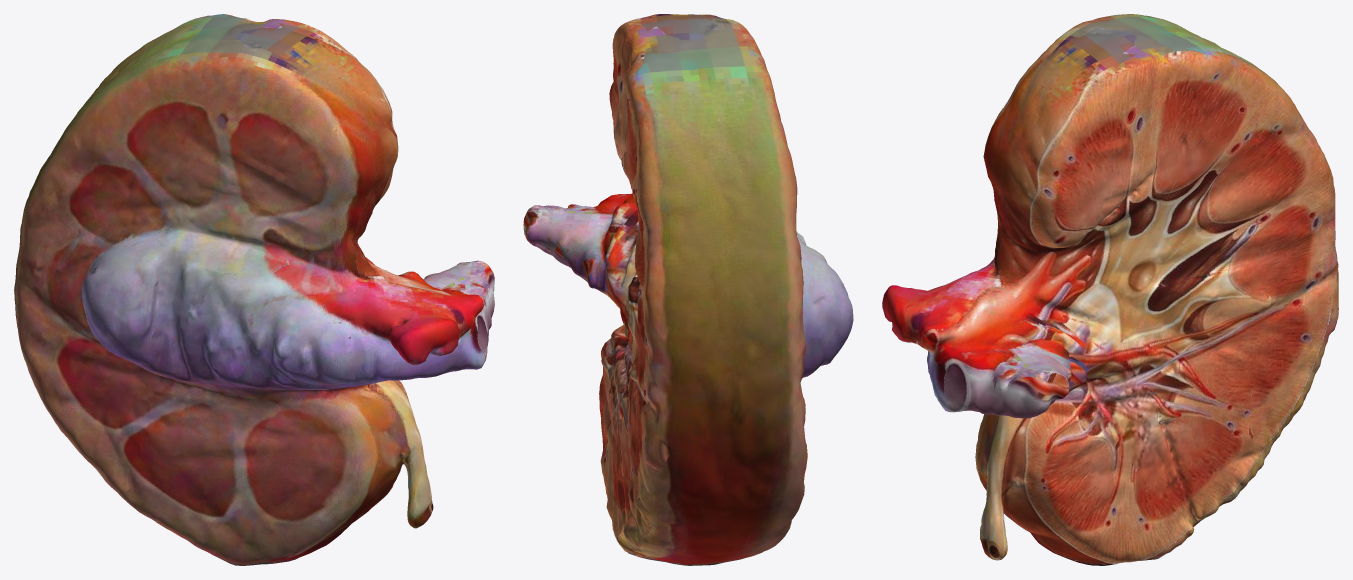
Rendered from kidney.glb.
3 renders of one model, left to right at view 1: azimuth 30°, elevation 25°; view 2: azimuth 150°, elevation 25°; view 3: azimuth 270°, elevation 25°, orthographic. The views are drawn at different scales.
Parts seen in each view (by area): view 1: Mesh1; view 2: Mesh1; view 3: Mesh1.
Boxes of the visible parts, bbox=[...] form: Mesh1: bbox=[14, 14, 494, 565]; Mesh1: bbox=[523, 14, 853, 565]; Mesh1: bbox=[882, 14, 1338, 565].
Size of the model in its own units: 0.9131 by 1.2 by 0.9688.
Materials: 1 (1 with a texture image).
